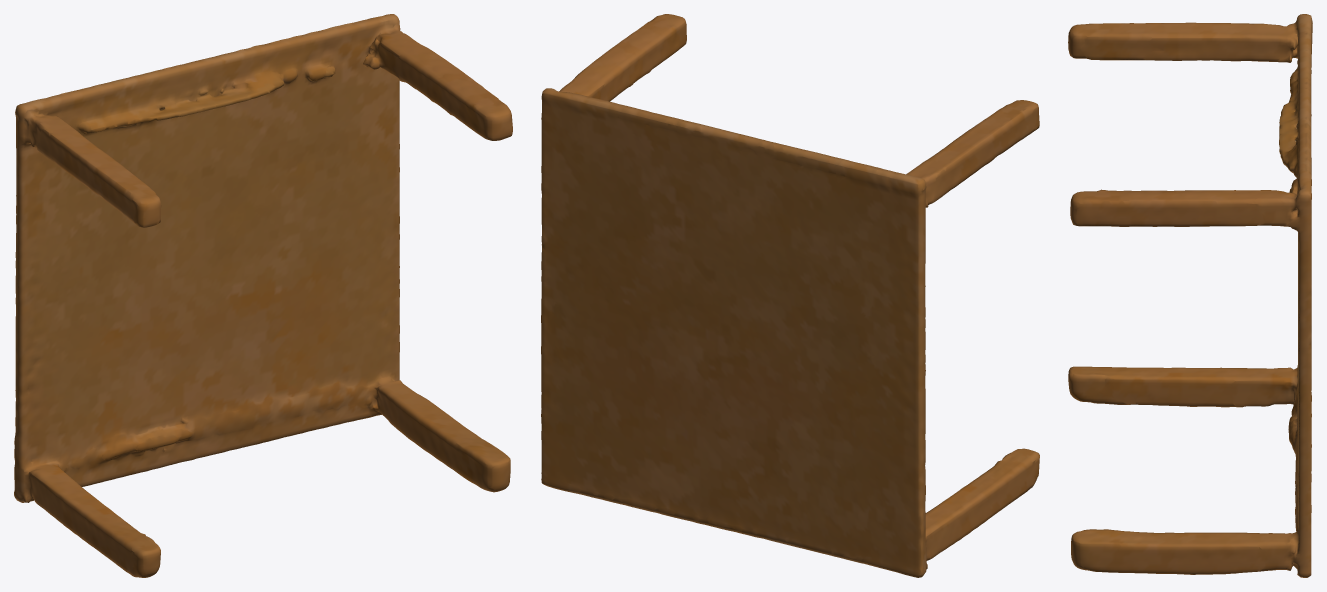
The model's file is A brown rectangle table with two broad legs..glb.
3 views of the same model, side by side, from view 1: azimuth 30°, elevation 25°; view 2: azimuth 150°, elevation 25°; view 3: azimuth 270°, elevation 25° (orthographic). The views are drawn at different scales.
Parts seen in each view (by area): view 1: A brown rectangle table with two broad legs.; view 2: A brown rectangle table with two broad legs.; view 3: A brown rectangle table with two broad legs..
Part boxes in pixels (x1,y1,x2,y2): A brown rectangle table with two broad legs.: [14, 14, 512, 577]; A brown rectangle table with two broad legs.: [541, 14, 1039, 577]; A brown rectangle table with two broad legs.: [1068, 14, 1312, 577].
Size of the model in its own units: 1.01 by 0.9999 by 0.5715.
